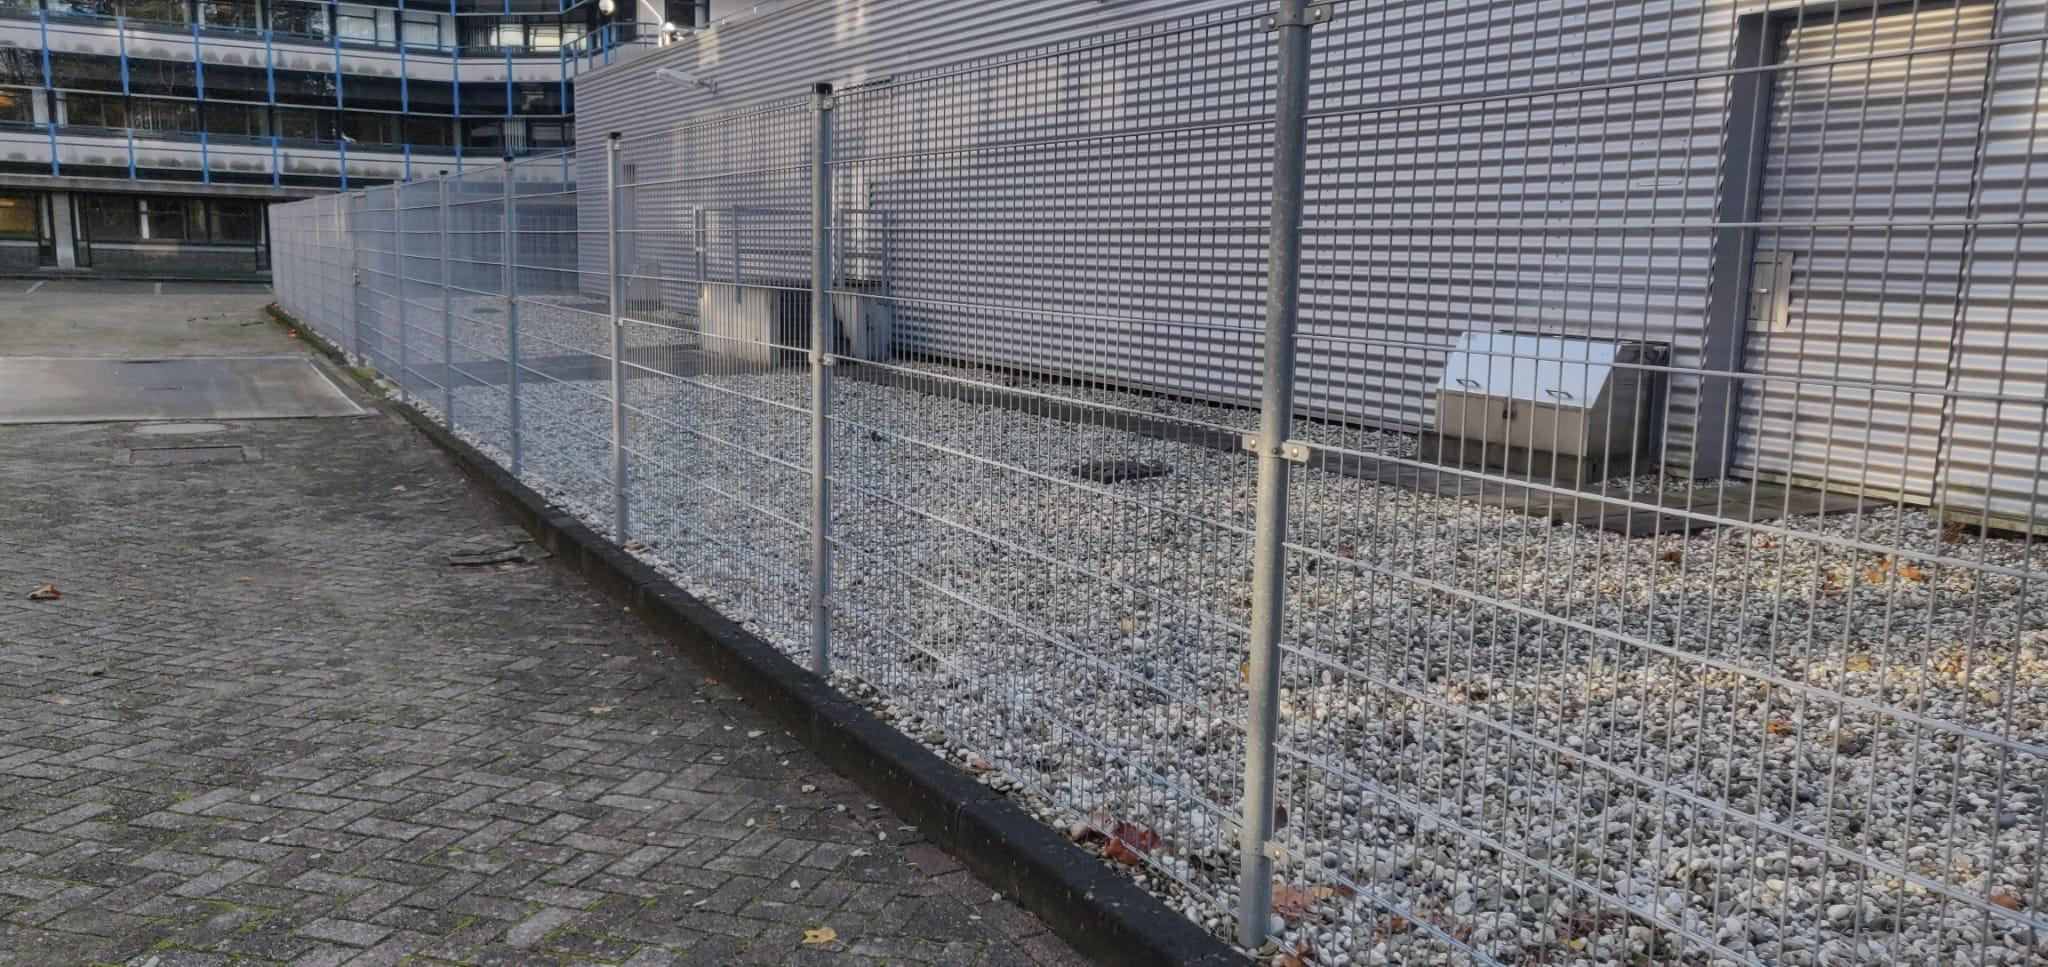obstacle: (0, 187, 2048, 831)
